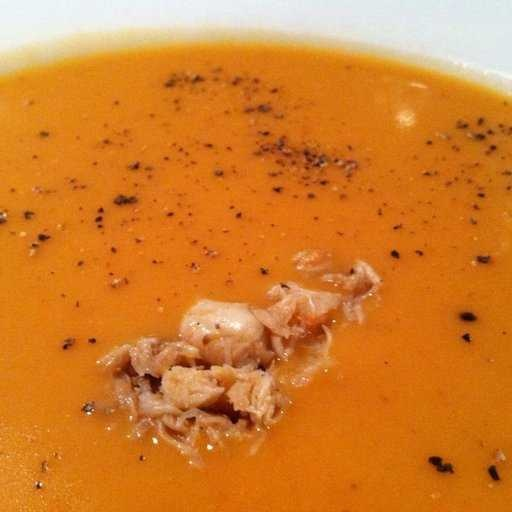soup: (5, 24, 501, 512)
